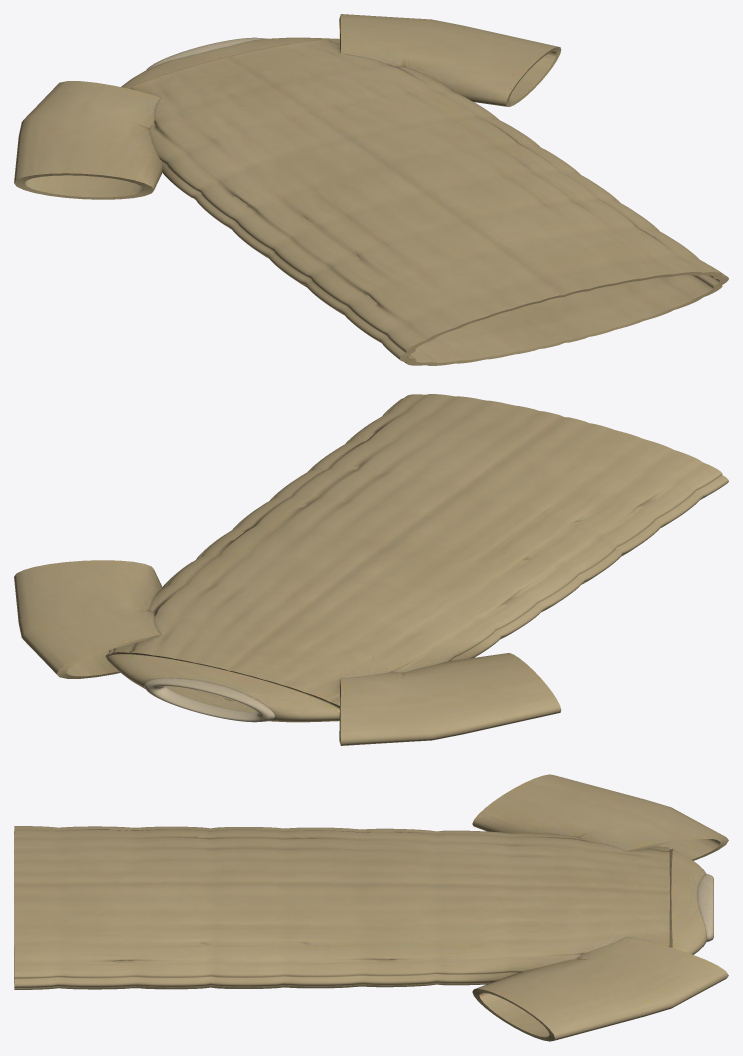
Rendered from padded_tunic.glb.
3 renders of one model, top to bottom at view 1: azimuth 30°, elevation 25°; view 2: azimuth 150°, elevation 25°; view 3: azimuth 270°, elevation 25°, orthographic. The views are drawn at different scales.
Parts seen in each view (by area): view 1: padded_tunic; view 2: padded_tunic; view 3: padded_tunic.
Boxes of the visible parts, x1,y1,x2,y2 form: padded_tunic: [14, 14, 728, 365]; padded_tunic: [14, 394, 728, 745]; padded_tunic: [14, 774, 728, 1041].
Size of the model in its own units: 0.7167 by 0.0651 by 0.8297.
Materials: 1 (1 with a texture image).
